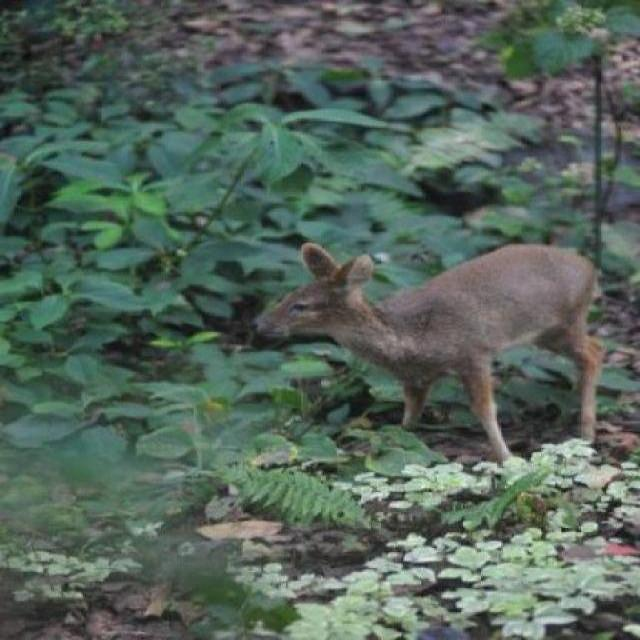deer: (211, 223, 638, 480)
